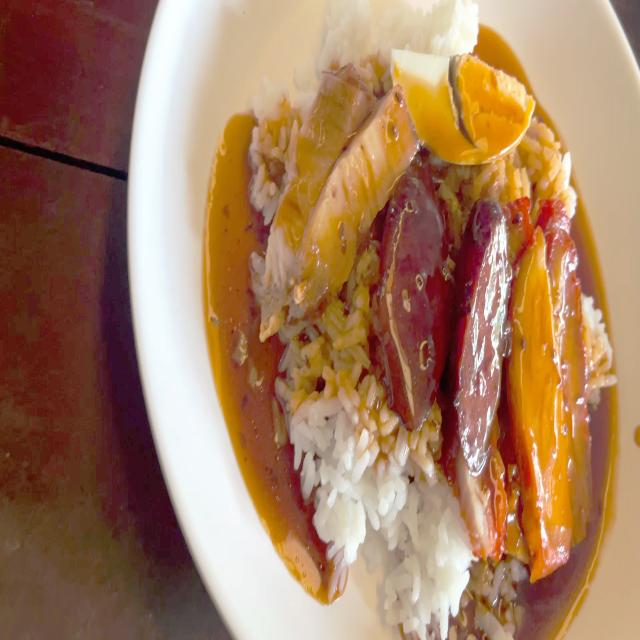boiled_egg: (394, 40, 528, 159)
chainese_sausage: (379, 172, 504, 458), (384, 174, 463, 408), (451, 202, 504, 465)
crispy_pork: (264, 61, 416, 318), (271, 50, 367, 302), (307, 107, 411, 297)
red_pork: (515, 207, 591, 562)
red_pork_and_crispy_pork: (245, 0, 618, 640)
rice: (282, 314, 388, 531), (383, 451, 450, 608), (331, 0, 474, 66)
